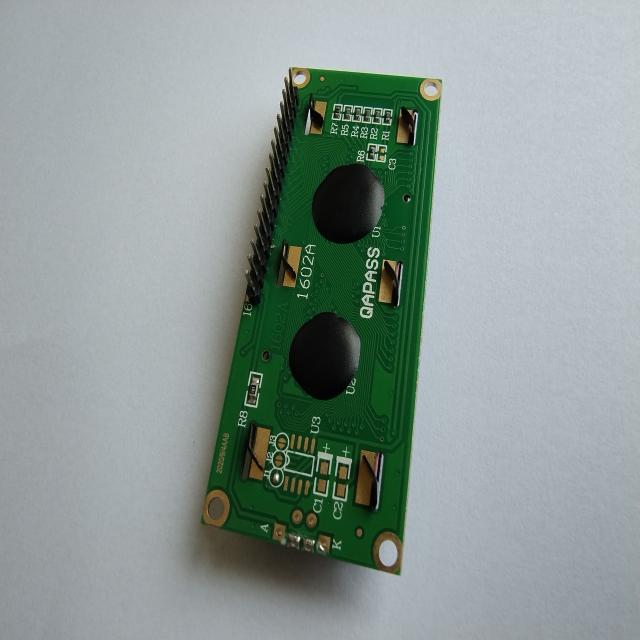lcd: (199, 65, 443, 576)
